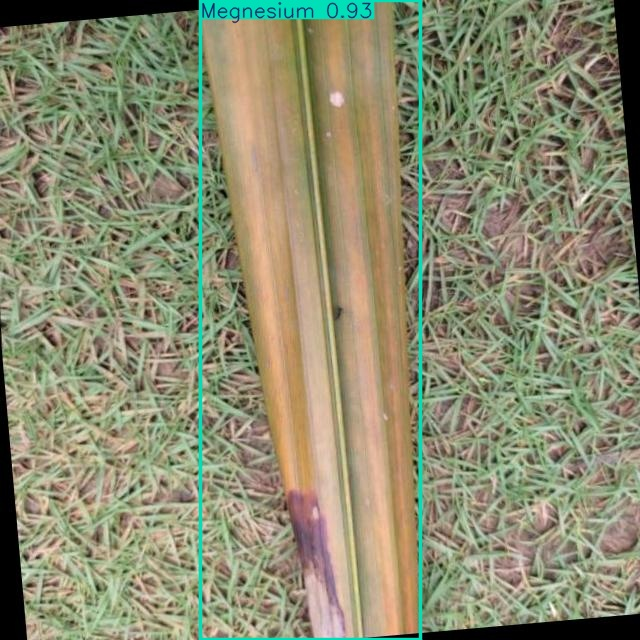Megnesium: (201, 1, 421, 639)
